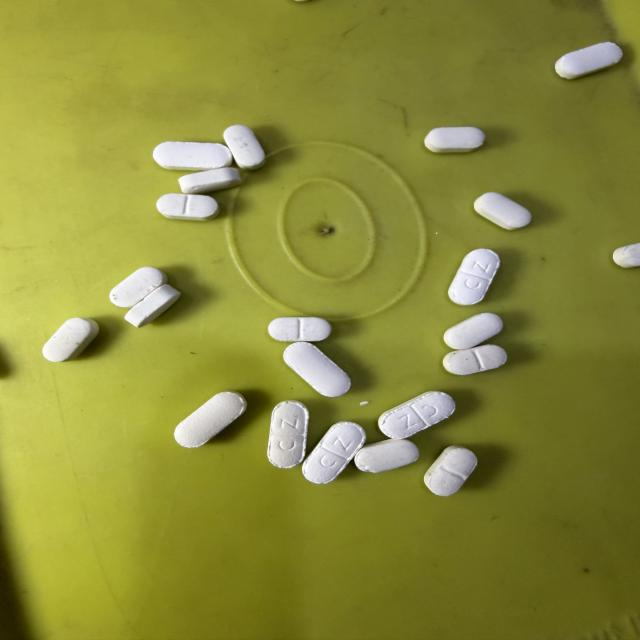pill: (174, 391, 247, 448), (303, 422, 365, 483), (284, 342, 350, 397), (378, 392, 455, 439), (449, 249, 500, 305), (268, 401, 308, 468), (425, 446, 477, 496), (555, 42, 622, 79), (43, 318, 99, 362), (125, 284, 180, 327), (110, 267, 167, 307), (153, 142, 232, 170), (444, 313, 503, 349), (355, 439, 419, 472), (474, 193, 531, 230), (443, 345, 507, 375), (223, 125, 265, 169), (178, 167, 242, 194), (157, 194, 218, 220), (268, 317, 331, 342), (425, 127, 485, 152), (612, 243, 640, 268), (360, 401, 369, 405)
